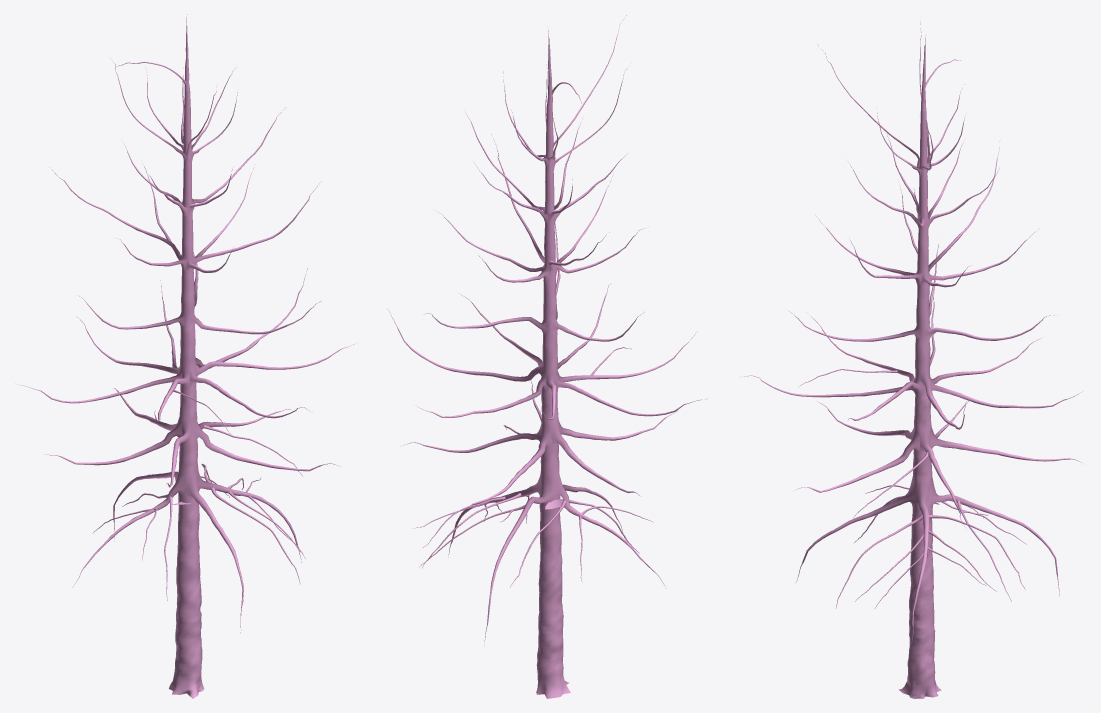
The model's file is tree5b.obj.
3 views of the same model, side by side, from view 1: azimuth 30°, elevation 25°; view 2: azimuth 150°, elevation 25°; view 3: azimuth 270°, elevation 25° (orthographic).
Parts seen in each view (by area): view 1: Object001; view 2: Object001; view 3: Object001.
Boxes of the visible parts, box(x1,y1,x2,y2) form: Object001: box(17, 14, 354, 698); Object001: box(387, 15, 707, 698); Object001: box(740, 21, 1085, 698).
Bounding box in the file's own units: 33.68 × 70.04 × 33.61.
